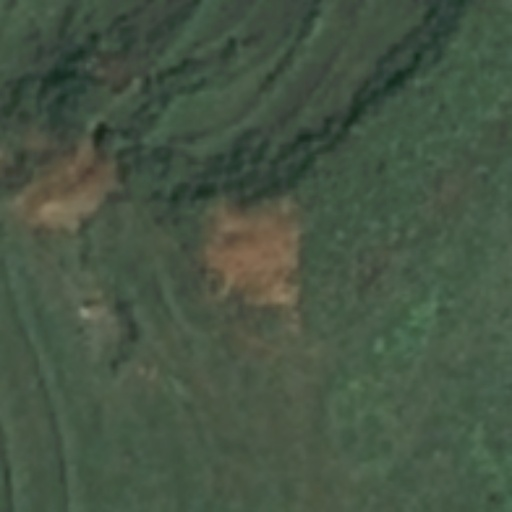landslide: (206, 196, 301, 300), (16, 139, 118, 232)
